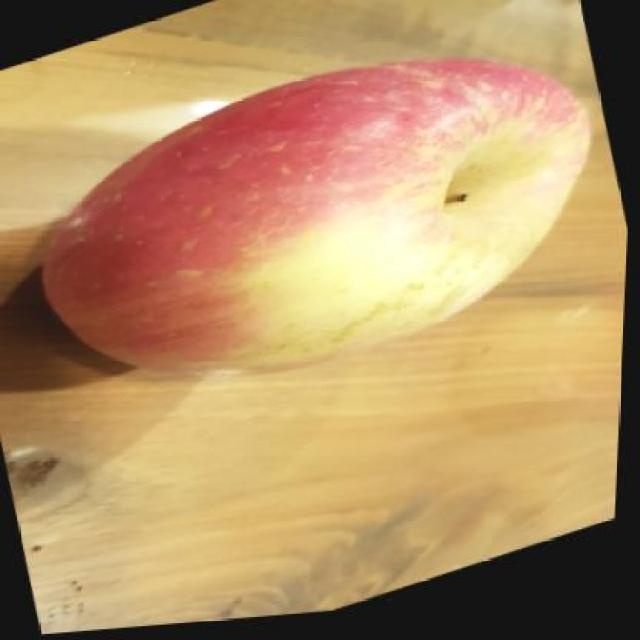Fresh Apple: (48, 55, 591, 386)
